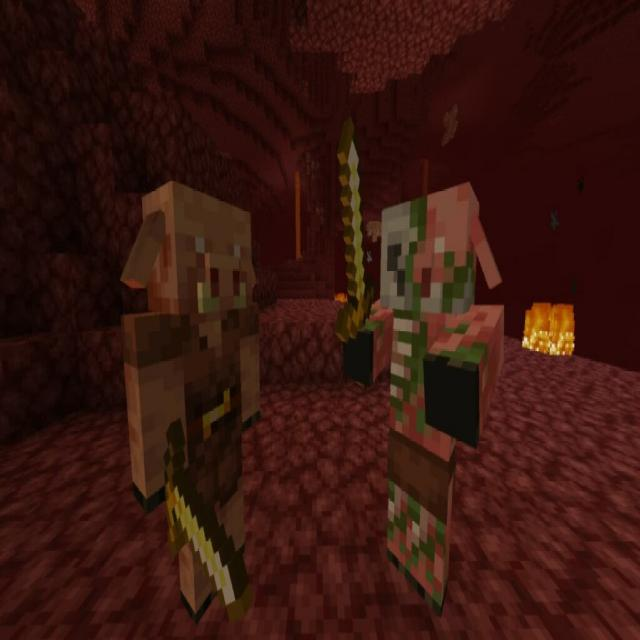Piglin: (122, 178, 265, 622)
Zombified Piglin: (329, 109, 507, 609)
